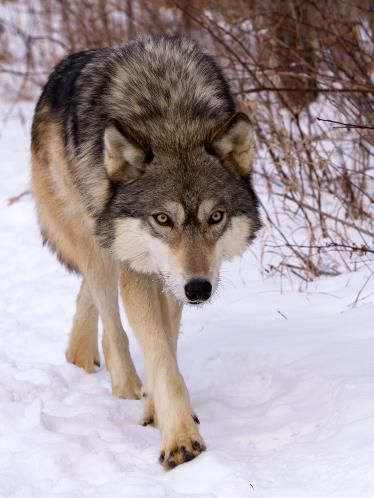Lobo: (21, 28, 265, 477)
